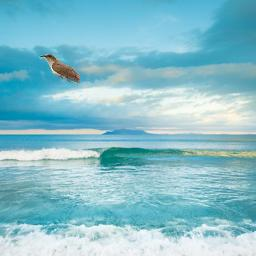Cuckoo: (39, 54, 80, 84)
